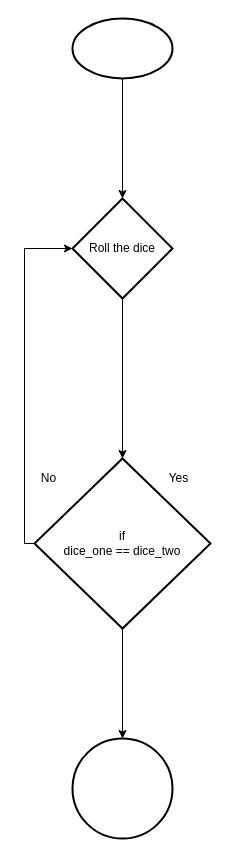
This 229x856 diagram has some shape labels left out. The centre of each missing label's shape, as x and y in pixels:
"Start" belongs at (x=122, y=48).
"Stop" belongs at (x=122, y=788).
